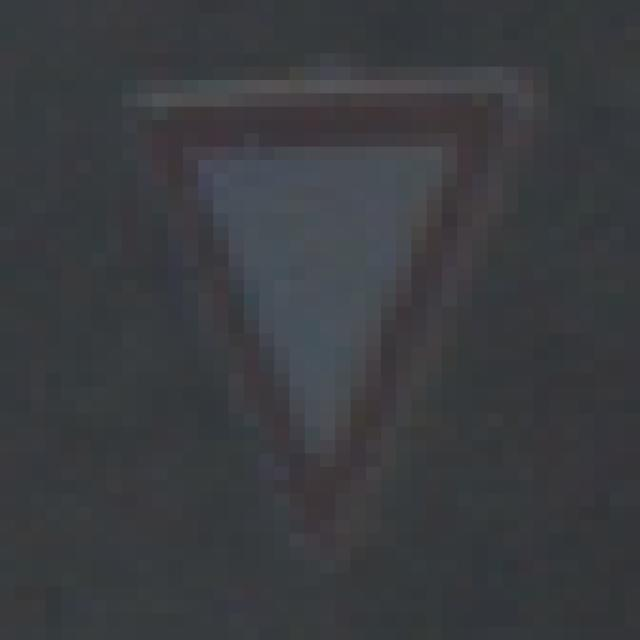Give Way: (92, 68, 565, 574)
